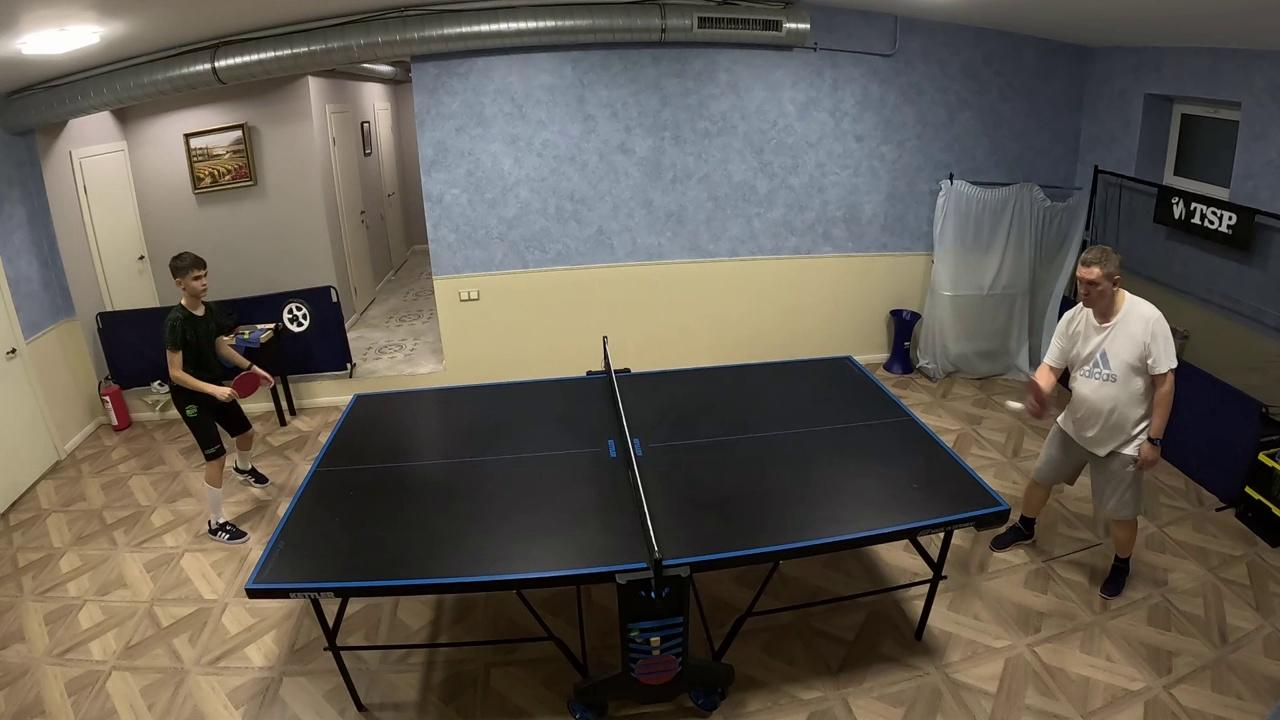Ball: (1001, 400, 1035, 417)
Net: (602, 336, 663, 587)
Player1: (164, 251, 272, 542)
Player2: (1042, 246, 1176, 598)
Table: (308, 371, 648, 593), (616, 357, 964, 571)
